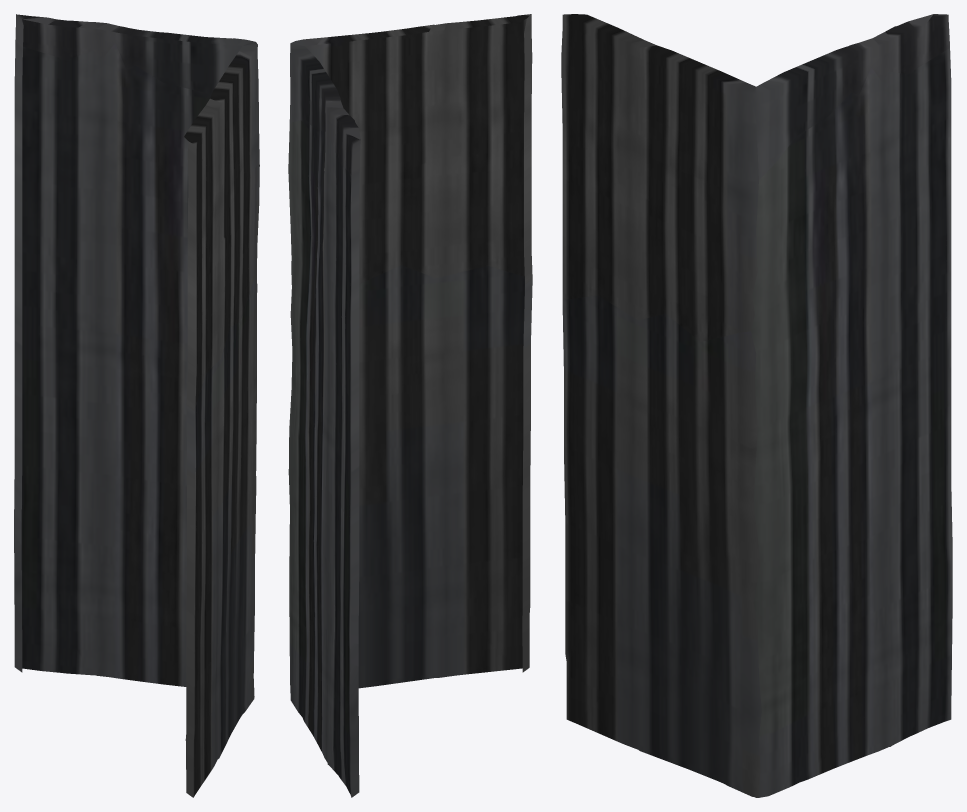
The model's file is z20-167774-405237-h1-yup-uvflip-v3-world.glb.
3 renders of one model, left to right at view 1: azimuth 30°, elevation 25°; view 2: azimuth 150°, elevation 25°; view 3: azimuth 270°, elevation 25°, orthographic. The views are drawn at different scales.
Bounding box in the file's own units: 5.64 × 22.96 × 11.56.
1 material, 1 textured.
